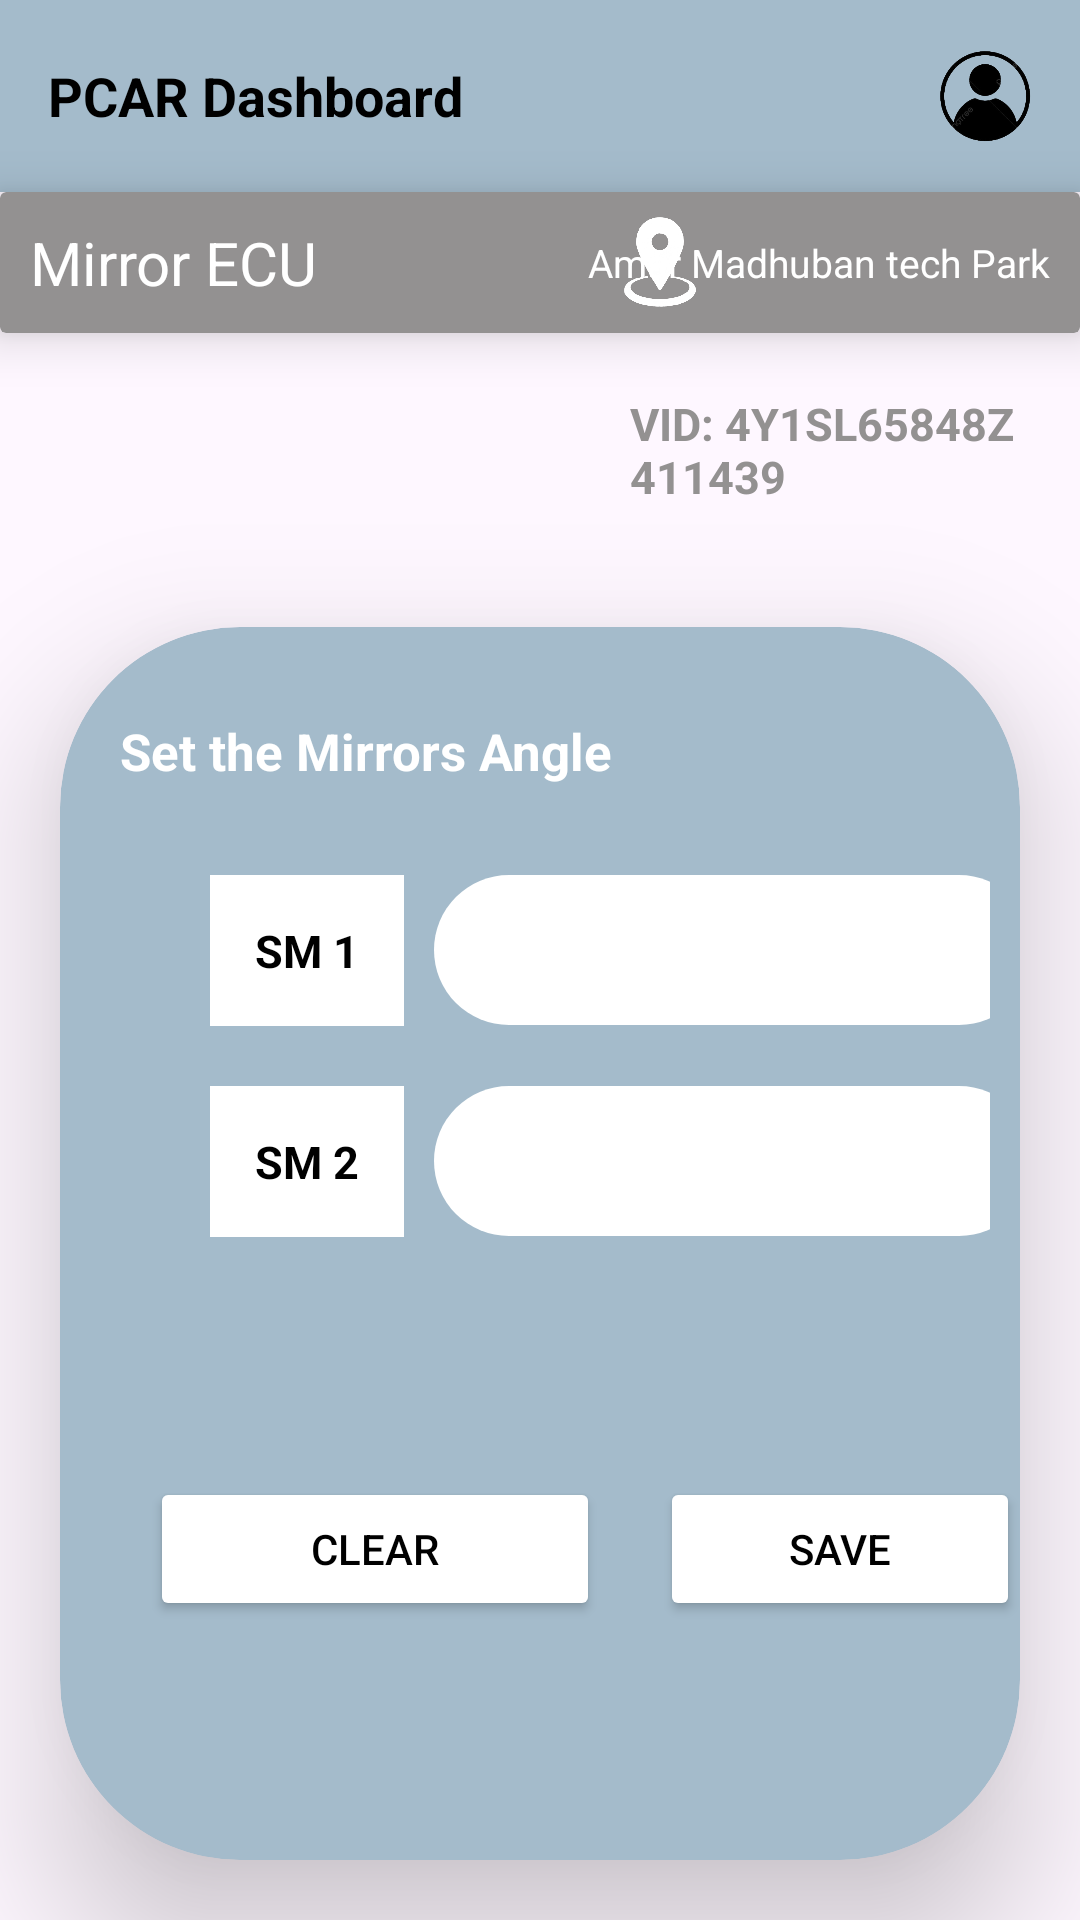

Screen size 1080x1920. Icon name, then its box in pixels as (x1, y1, x2, y2):
location: (615, 217, 720, 307)
profile: (940, 51, 1030, 141)
